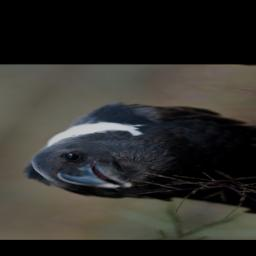Crow: (5, 93, 256, 212)
